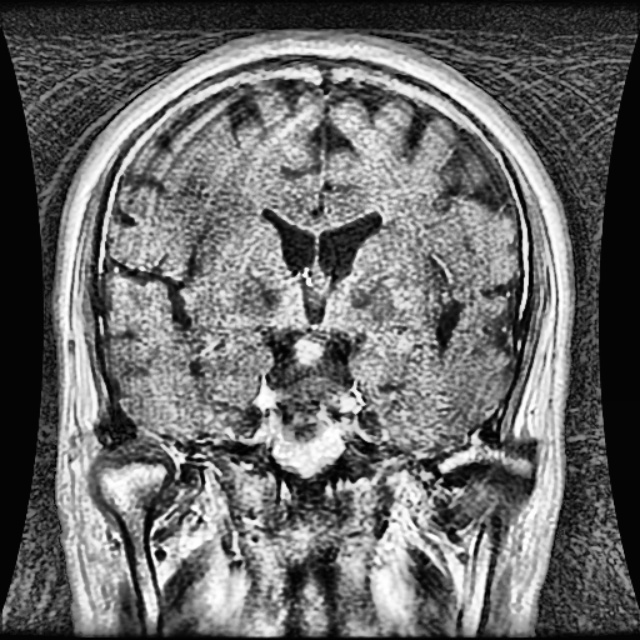Pituitary: (262, 337, 352, 473)
